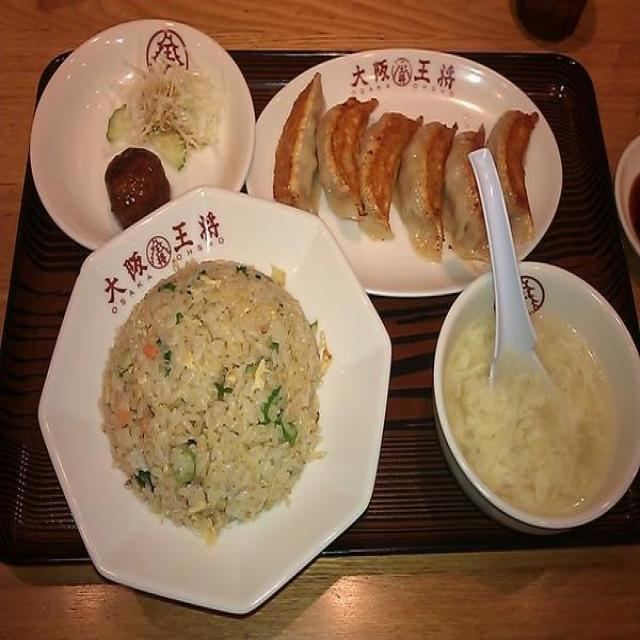带馅早点: (248, 40, 561, 296)
汤锅炖物: (434, 256, 635, 536)
米饭主食: (35, 187, 396, 608)
